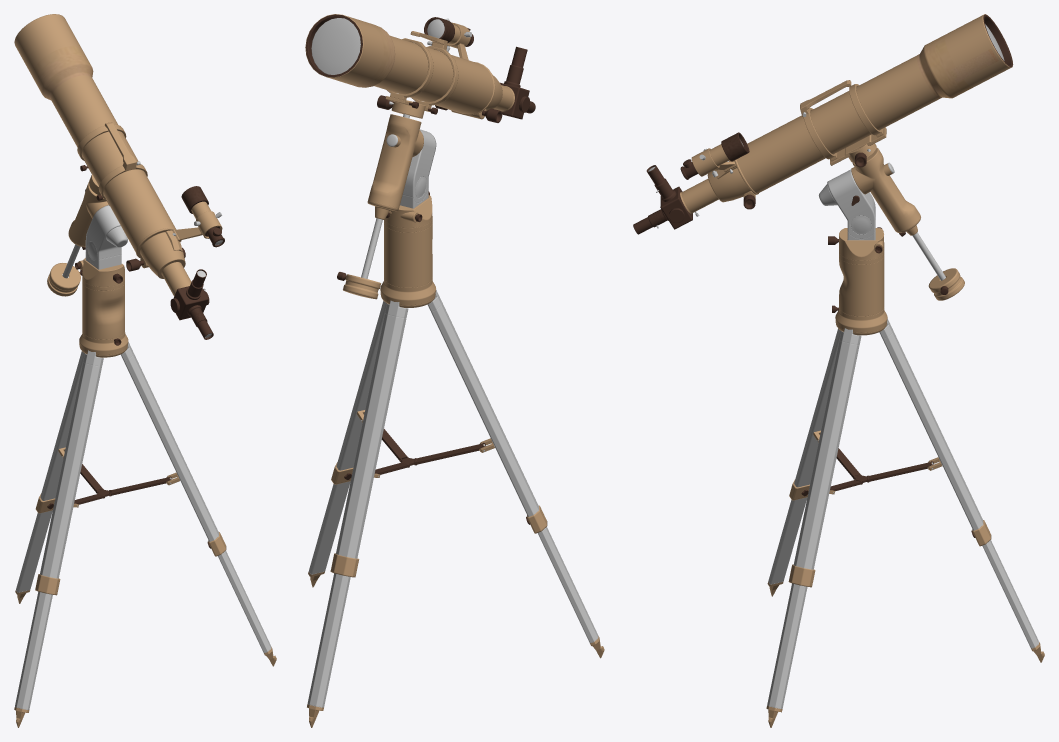
Rendered from 天文馆.gltf.
3 renders of one model, left to right at view 1: azimuth 30°, elevation 25°; view 2: azimuth 150°, elevation 25°; view 3: azimuth 270°, elevation 25°, orthographic. The views are drawn at different scales.
Visible parts, largest first — view 1: node_AM_78_019_04_-69530, node_AM_78_019_06_-69534, node_AM_78_019_02_-69526, node_AM_78_019_09_-69540, node_AM_78_019_03_-69528, node_AM_78_019_05_-69532; view 2: node_AM_78_019_06_-69534, node_AM_78_019_04_-69530, node_AM_78_019_02_-69526, node_AM_78_019_09_-69540, node_AM_78_019_08_-69538, node_AM_78_019_03_-69528, node_AM_78_019_07_-69536; view 3: node_AM_78_019_04_-69530, node_AM_78_019_06_-69534, node_AM_78_019_09_-69540, node_AM_78_019_02_-69526, node_AM_78_019_03_-69528.
Part boxes in pixels (bbox=[...]): node_AM_78_019_04_-69530: bbox=[14, 14, 276, 727]; node_AM_78_019_06_-69534: bbox=[15, 342, 271, 709]; node_AM_78_019_02_-69526: bbox=[79, 258, 128, 357]; node_AM_78_019_09_-69540: bbox=[47, 165, 224, 548]; node_AM_78_019_03_-69528: bbox=[85, 205, 121, 269]; node_AM_78_019_05_-69532: bbox=[85, 189, 127, 260]; node_AM_78_019_06_-69534: bbox=[307, 289, 598, 707]; node_AM_78_019_04_-69530: bbox=[305, 14, 604, 727]; node_AM_78_019_02_-69526: bbox=[380, 195, 435, 307]; node_AM_78_019_09_-69540: bbox=[305, 14, 535, 524]; node_AM_78_019_08_-69538: bbox=[311, 18, 444, 74]; node_AM_78_019_03_-69528: bbox=[400, 129, 436, 208]; node_AM_78_019_07_-69536: bbox=[361, 18, 484, 477]; node_AM_78_019_04_-69530: bbox=[680, 14, 1044, 727]; node_AM_78_019_06_-69534: bbox=[767, 319, 1038, 708]; node_AM_78_019_09_-69540: bbox=[633, 14, 1012, 537]; node_AM_78_019_02_-69526: bbox=[835, 228, 887, 335]; node_AM_78_019_03_-69528: bbox=[827, 169, 875, 240].
Size of the model in its own units: 0.6286 by 1.41 by 0.8125.
